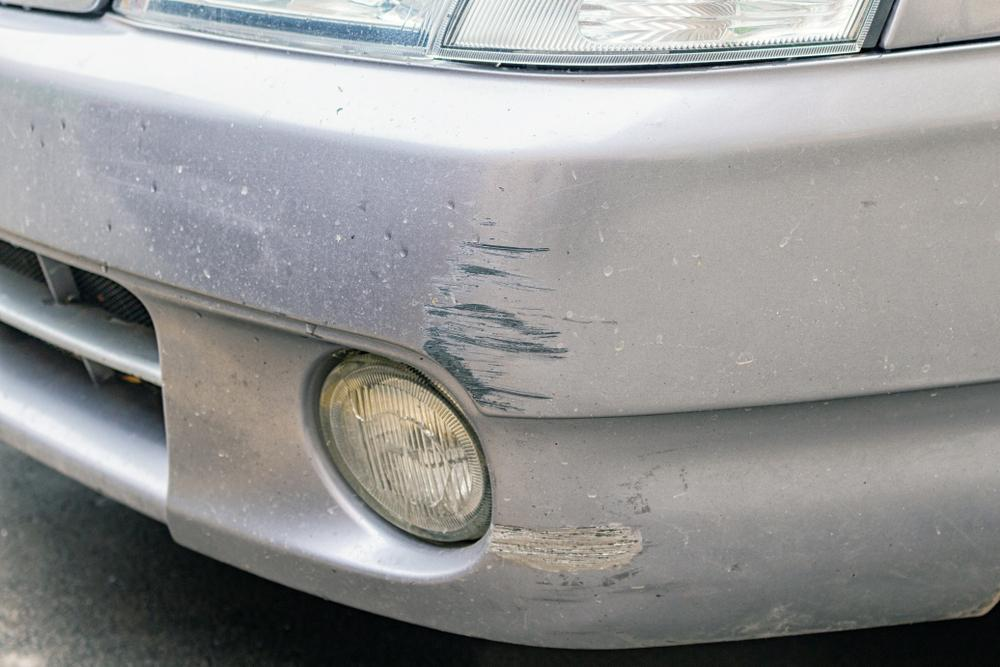scratch: (424, 223, 569, 418), (489, 519, 648, 607)
